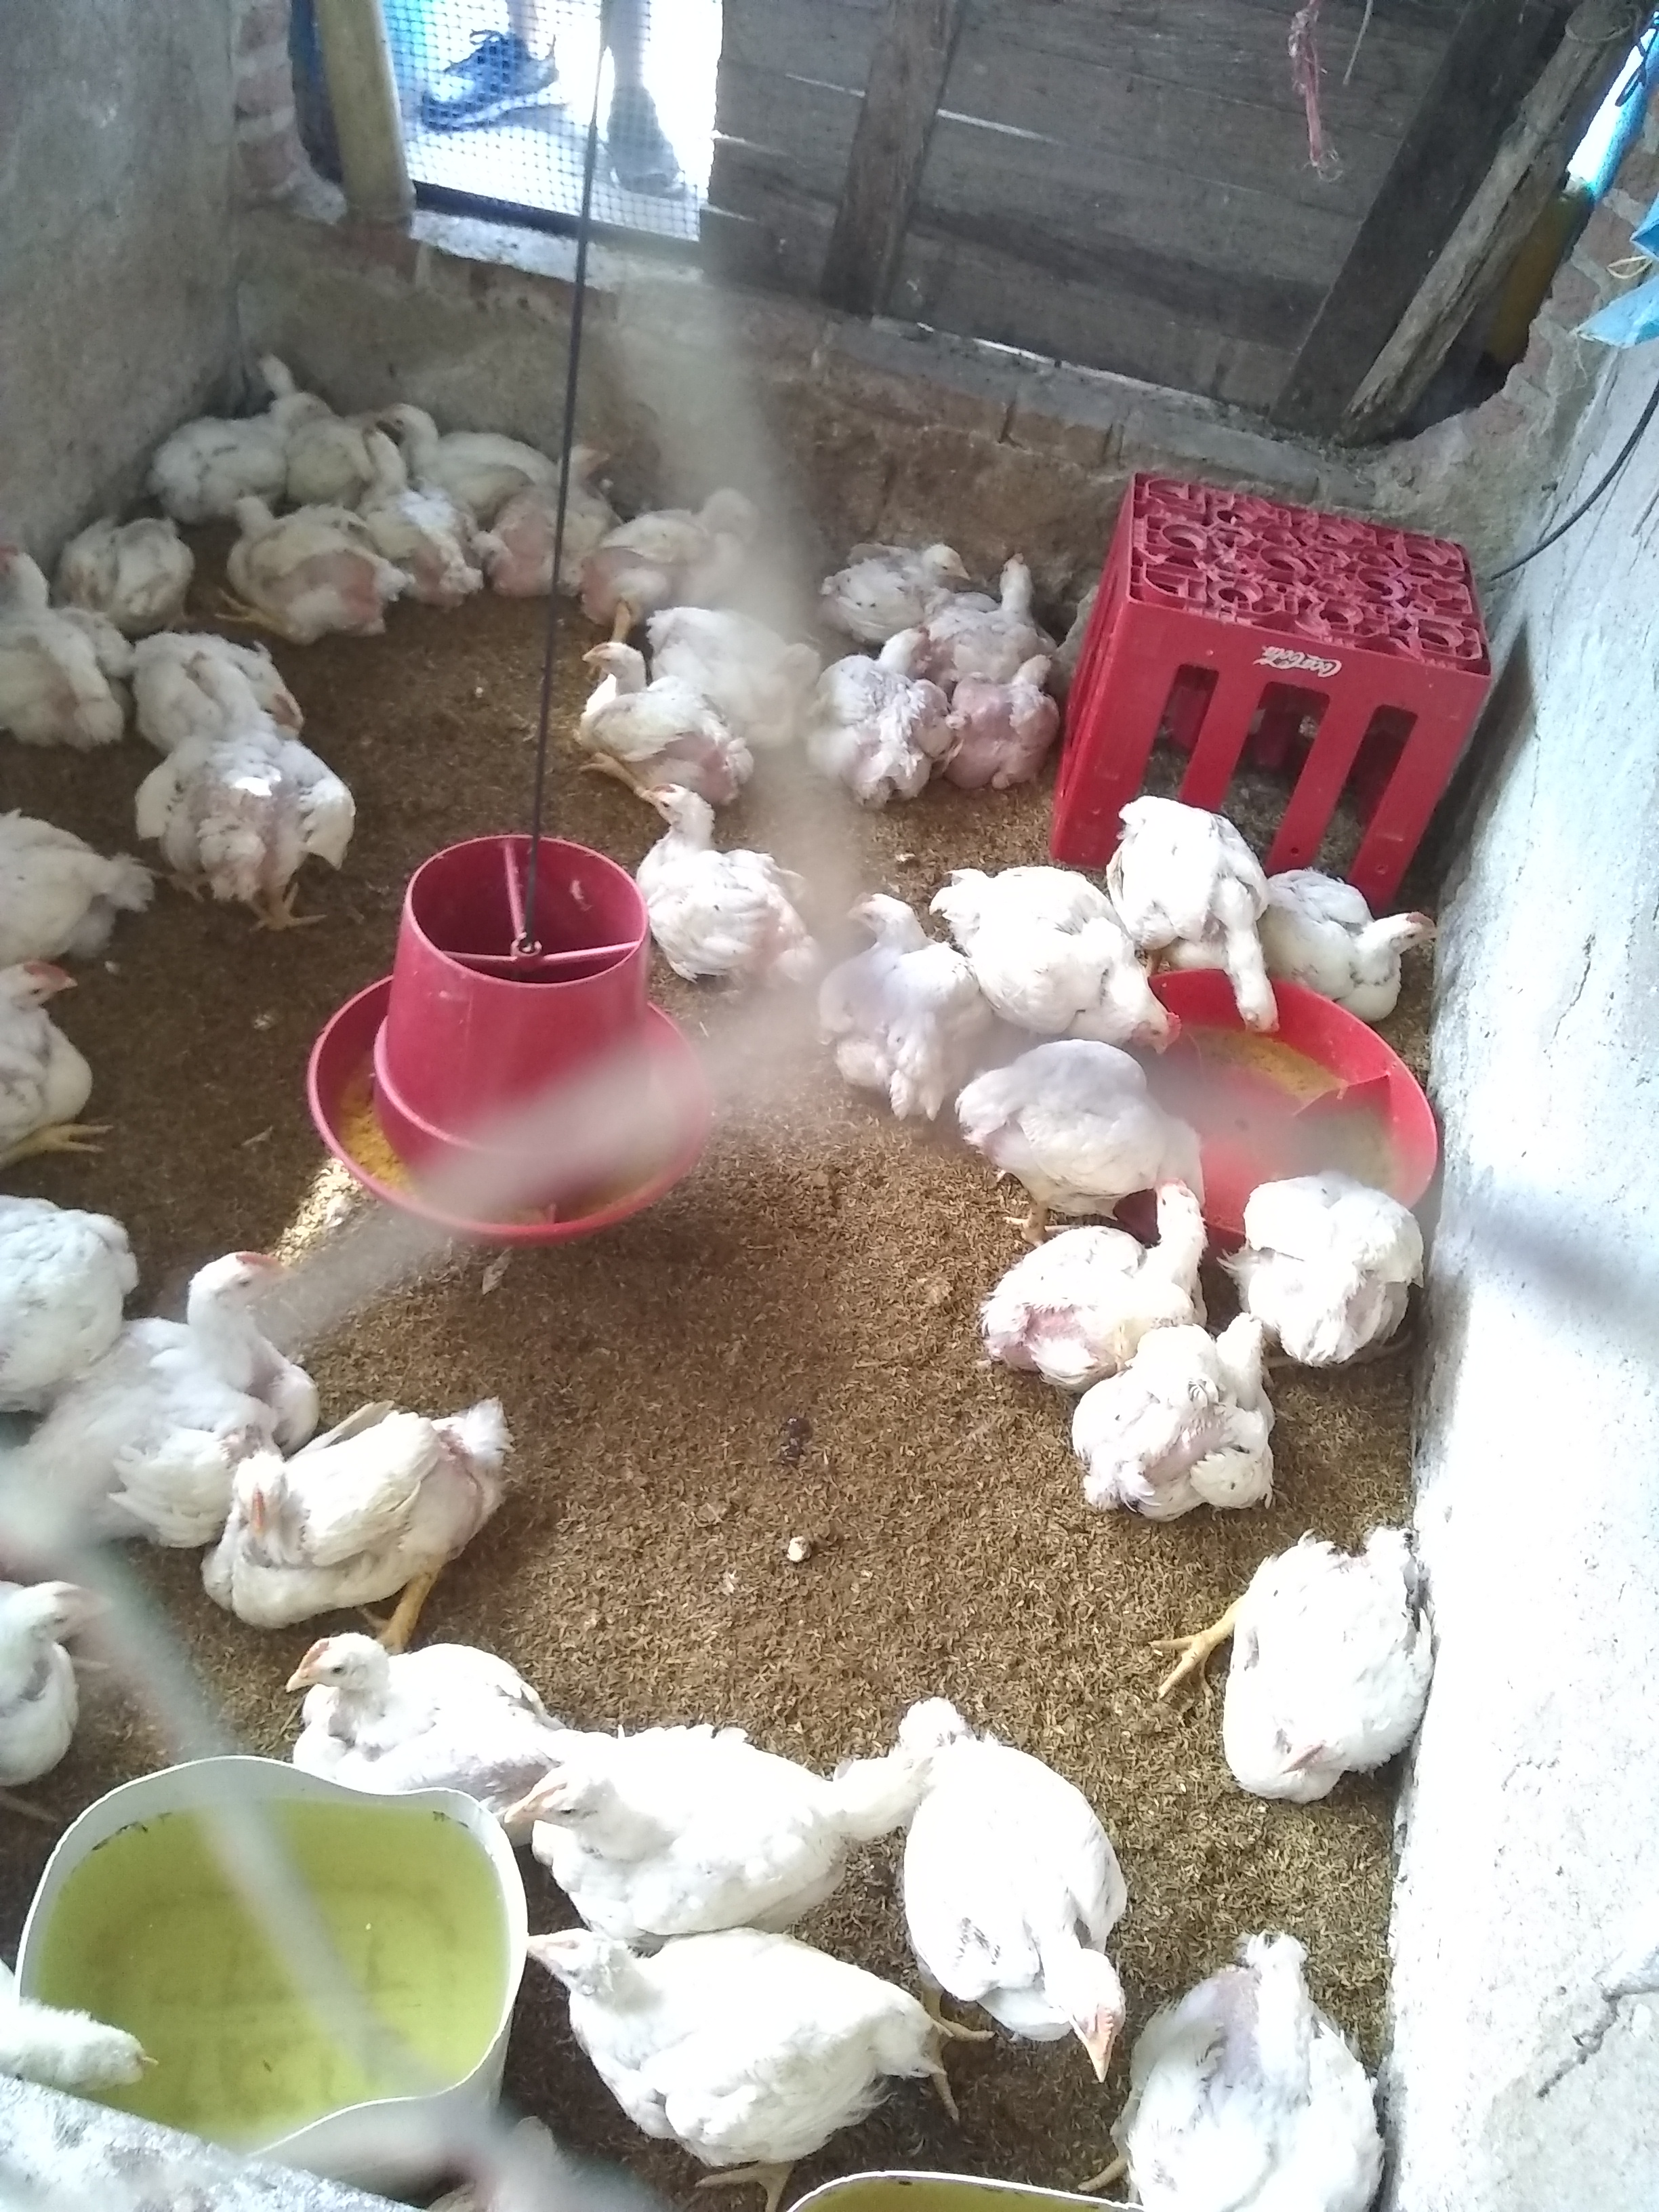Pollos: (509, 1932, 929, 2155), (896, 1709, 1138, 2085), (495, 1723, 823, 1921), (216, 1407, 504, 1620), (1216, 1526, 1427, 1799), (171, 651, 354, 887), (1070, 1310, 1272, 1515), (986, 1181, 1211, 1364), (277, 1629, 526, 1771), (979, 881, 1180, 1054), (631, 784, 812, 972), (1248, 1165, 1425, 1350), (1155, 796, 1284, 1045), (143, 1247, 300, 1442), (835, 885, 971, 1094), (974, 1049, 1201, 1172), (573, 639, 753, 786), (0, 528, 125, 726), (0, 1578, 108, 1787), (230, 489, 401, 620), (352, 428, 477, 590), (162, 385, 333, 503), (831, 620, 948, 792), (1290, 885, 1445, 1012), (0, 954, 101, 1136), (615, 489, 772, 589), (957, 648, 1063, 791), (829, 535, 974, 617), (523, 437, 619, 547), (61, 512, 167, 610), (974, 554, 1053, 650), (383, 395, 491, 453)
